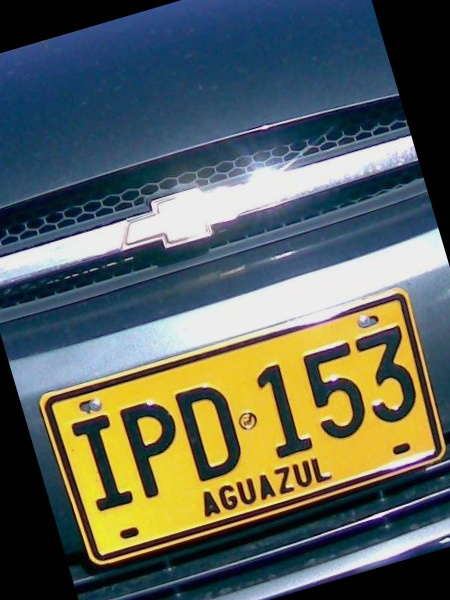placas: (31, 274, 450, 576)
